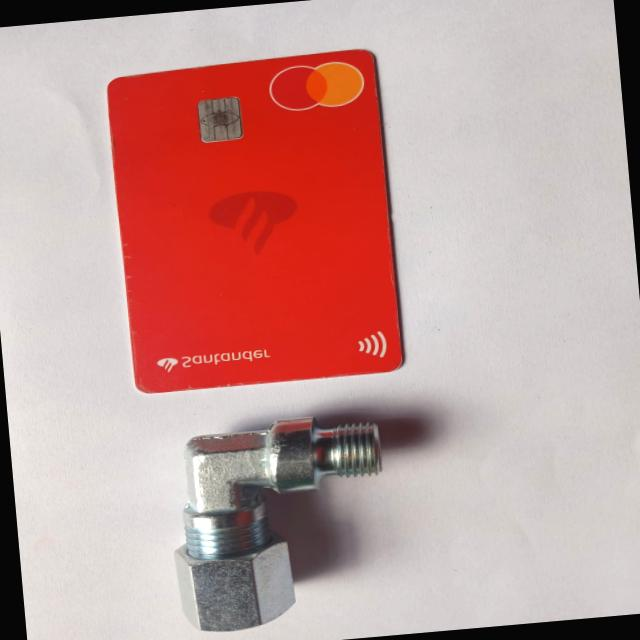cartao: (105, 48, 402, 395)
rosca_externa: (163, 409, 394, 636)
